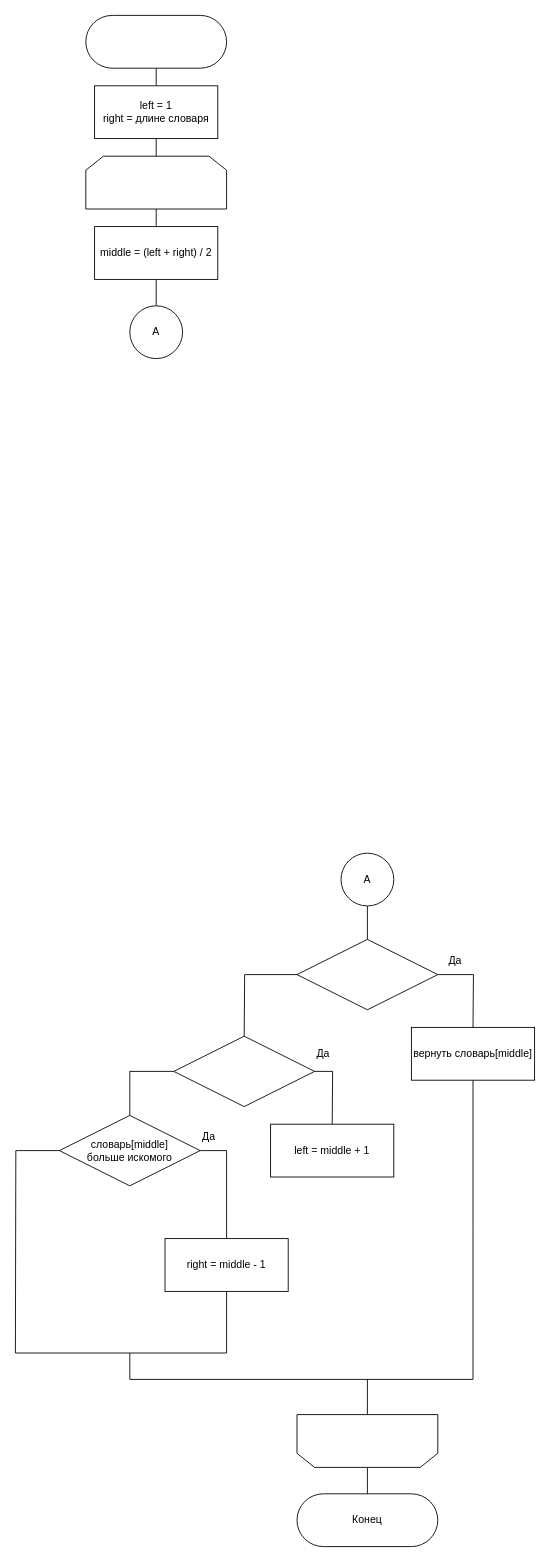
The diagram is 550 pixels wide and 1562 high, and some of its shapes have lost their labels. The shapes that lost their labels are listed below. From the top down, each one's centre as x and y in pixels, then its label:
point 156,41: Начало
point 156,182: Цикл пока left < right
point 367,974: словарь[middle] искомое
point 244,1071: словарь[middle] меньше искомого
point 367,1440: Конец цикла пока
